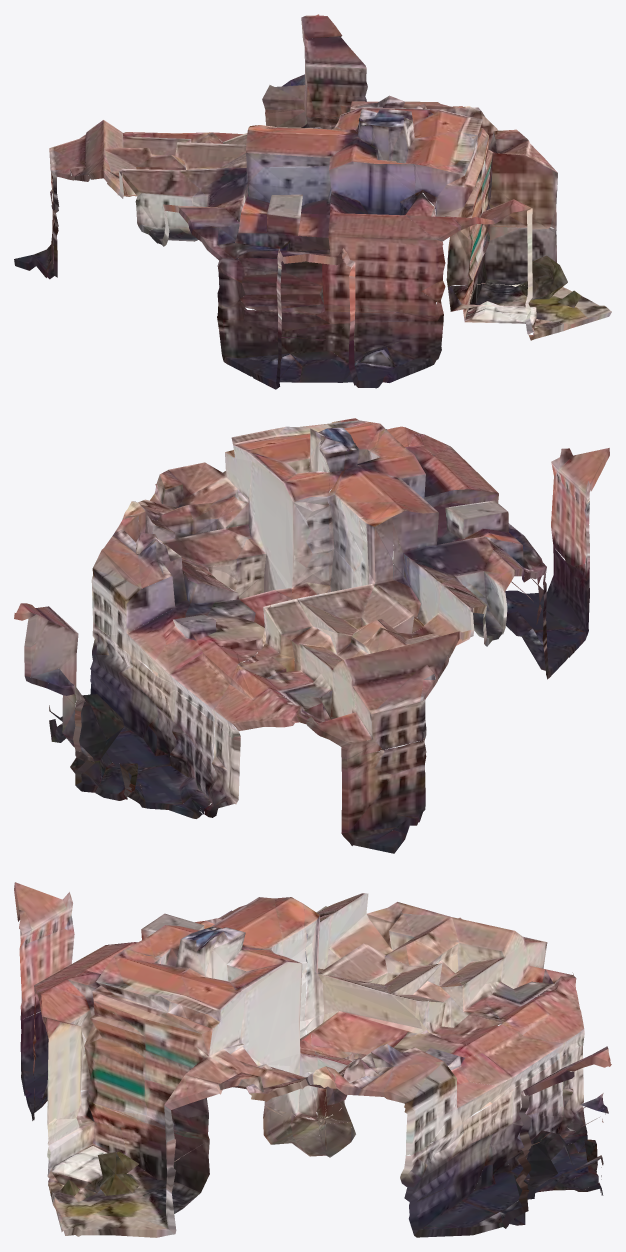
The picture shows the model from 3 angles, top to bottom: view 1: azimuth 30°, elevation 25°; view 2: azimuth 150°, elevation 25°; view 3: azimuth 270°, elevation 25°; orthographic projection. The views are drawn at different scales.
Parts seen in each view (by area): view 1: Mesh_0; view 2: Mesh_0; view 3: Mesh_0.
Part boxes in pixels (bbox=[...]): Mesh_0: bbox=[14, 14, 611, 389]; Mesh_0: bbox=[14, 418, 609, 853]; Mesh_0: bbox=[14, 882, 611, 1237].
Size of the model in its own units: 66.52 by 36.99 by 82.56.
Materials: 2 (2 with a texture image).
